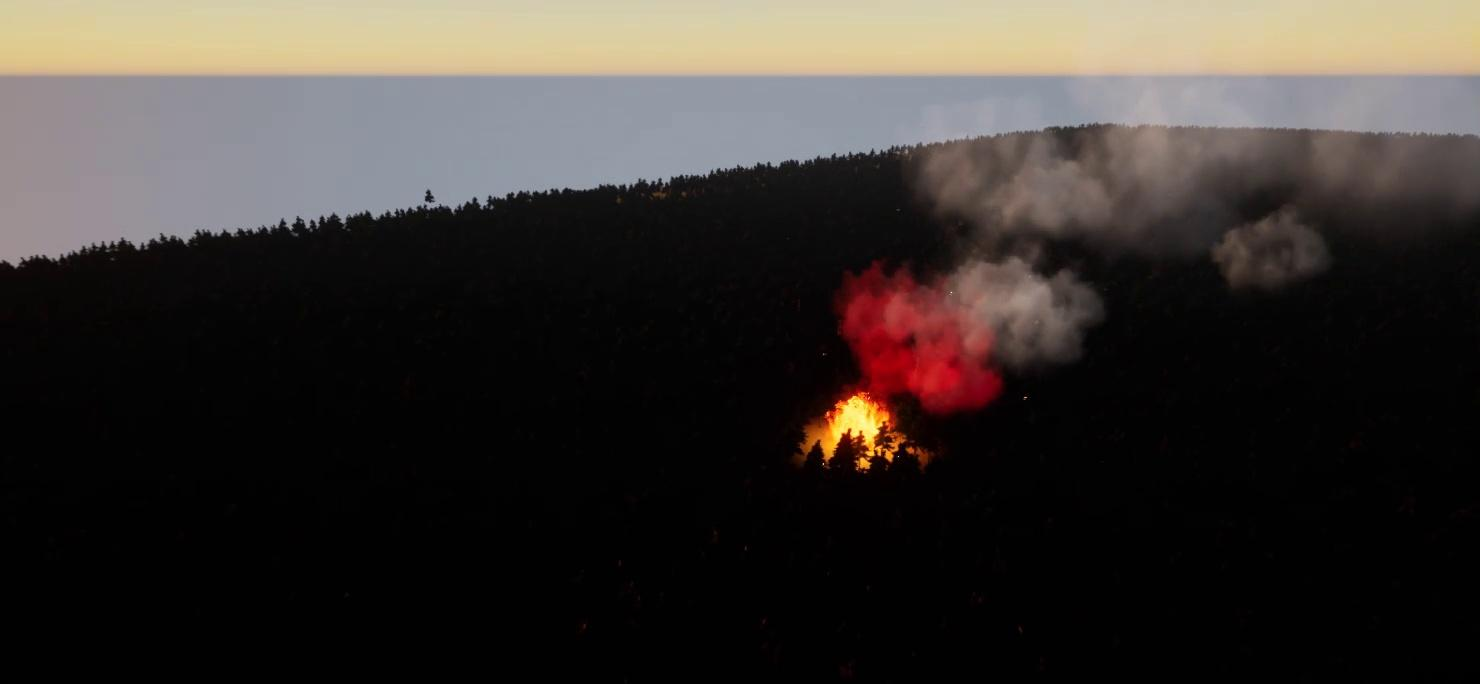fire: (828, 387, 908, 453)
smoke: (841, 73, 1479, 411)
